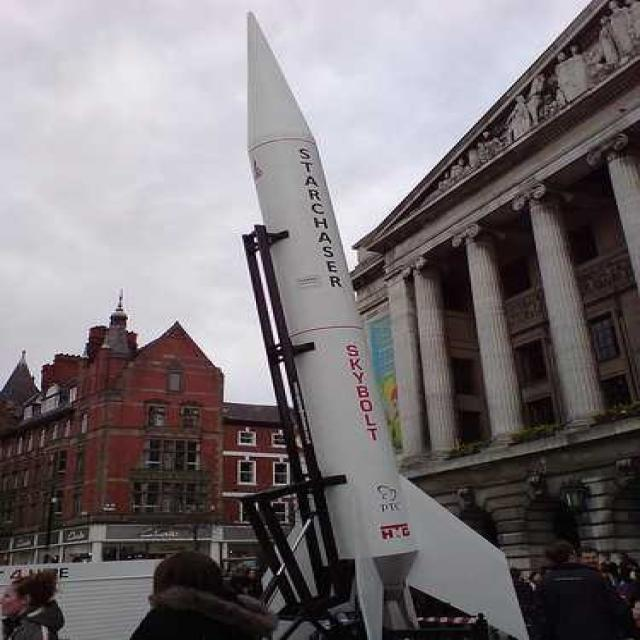missile: (234, 9, 571, 640)
